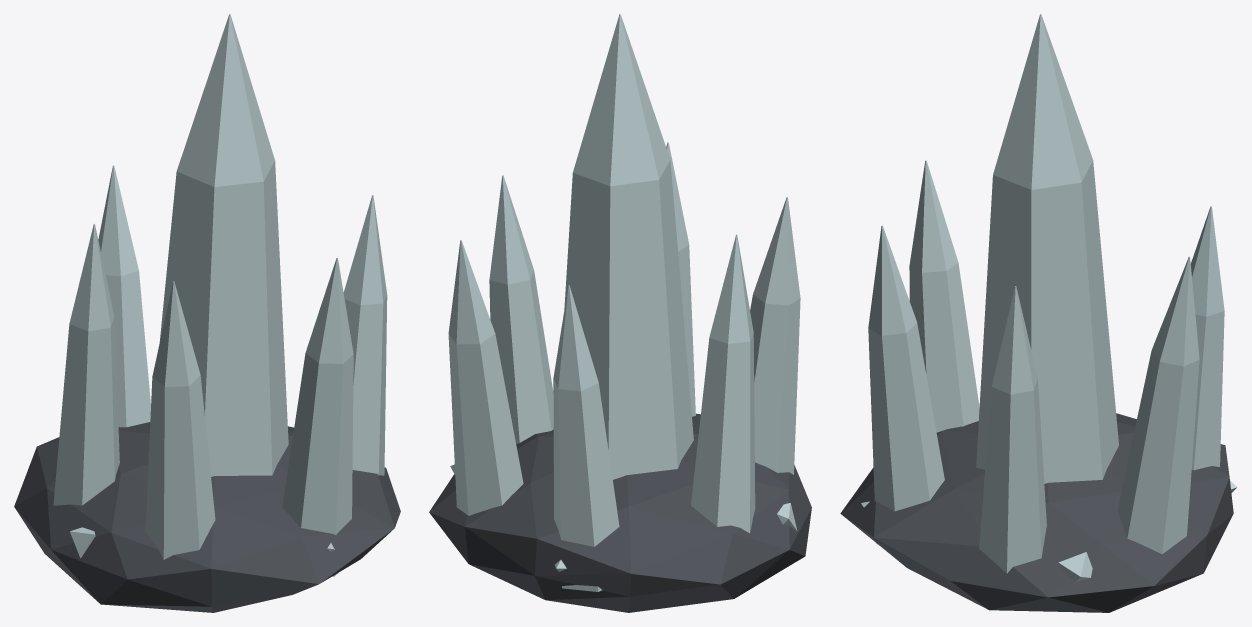
File: diamond_cluster.glb
3 renders of one model, left to right at view 1: azimuth 30°, elevation 25°; view 2: azimuth 150°, elevation 25°; view 3: azimuth 270°, elevation 25°, orthographic. The views are drawn at different scales.
Visible parts, largest first — view 1: DiamondCore, RockBase, DiamondSpire_1, DiamondSpire_2, DiamondSpire_3, DiamondSpire_0, DiamondSpire_4; view 2: DiamondCore, RockBase, DiamondSpire_3, DiamondSpire_5, DiamondSpire_4, DiamondSpire_2, DiamondSpire_0, DiamondSpire_1; view 3: DiamondCore, RockBase, DiamondSpire_5, DiamondSpire_1, DiamondSpire_0, DiamondSpire_2, DiamondSpire_4, DiamondChip_3.
Boxes of the visible parts, bbox=[...] form: DiamondCore: bbox=[148, 14, 288, 476]; RockBase: bbox=[14, 422, 400, 612]; DiamondSpire_1: bbox=[282, 257, 353, 576]; DiamondSpire_2: bbox=[145, 281, 215, 559]; DiamondSpire_3: bbox=[53, 223, 119, 505]; DiamondSpire_0: bbox=[343, 195, 387, 475]; DiamondSpire_4: bbox=[98, 165, 150, 427]; DiamondCore: bbox=[564, 14, 693, 479]; RockBase: bbox=[429, 413, 811, 612]; DiamondSpire_3: bbox=[691, 234, 755, 533]; DiamondSpire_5: bbox=[448, 240, 523, 515]; DiamondSpire_4: bbox=[553, 285, 619, 591]; DiamondSpire_2: bbox=[750, 197, 800, 474]; DiamondSpire_0: bbox=[489, 175, 553, 443]; DiamondSpire_1: bbox=[666, 142, 695, 416]; DiamondCore: bbox=[976, 14, 1118, 483]; RockBase: bbox=[840, 413, 1233, 612]; DiamondSpire_5: bbox=[1117, 256, 1199, 554]; DiamondSpire_1: bbox=[868, 225, 944, 543]; DiamondSpire_0: bbox=[979, 286, 1046, 573]; DiamondSpire_2: bbox=[909, 160, 979, 432]; DiamondSpire_4: bbox=[1190, 206, 1224, 470]; DiamondChip_3: bbox=[1058, 552, 1092, 582].
Bounding box in the file's own units: 1.2 × 1.89 × 1.21.
